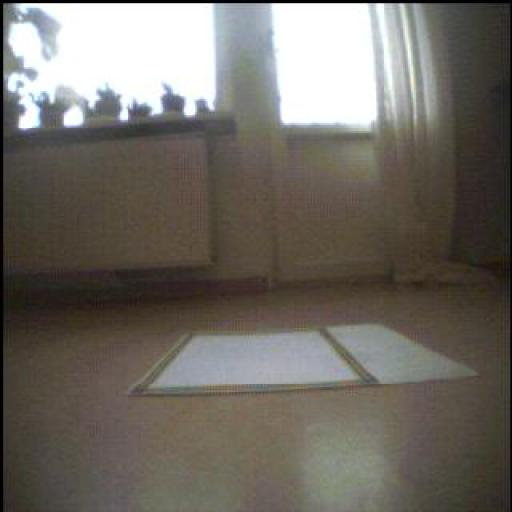Pad: (132, 326, 476, 396)
